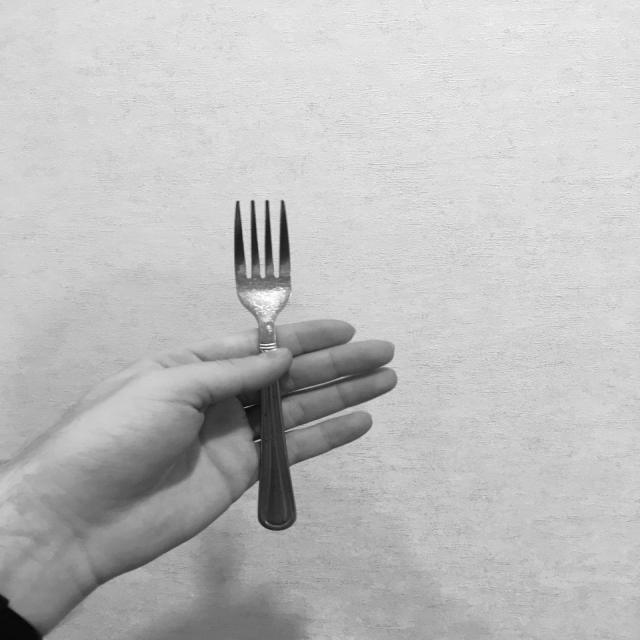fork: (232, 198, 294, 532)
